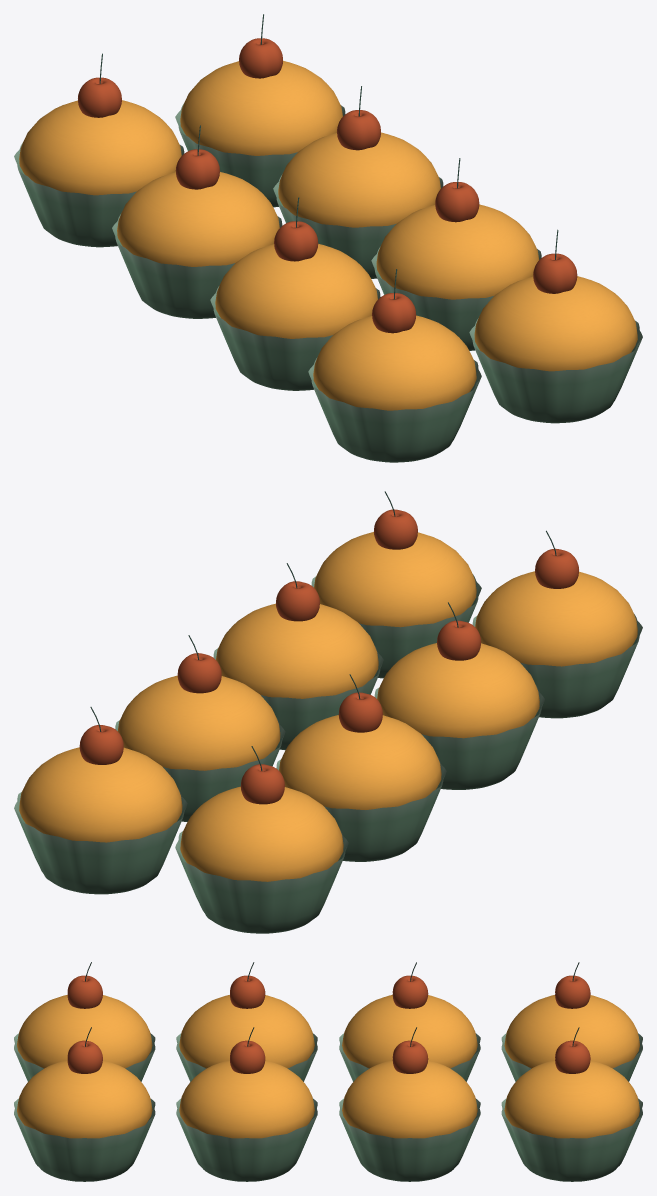
The model's file is Full_Cupcake.fbx.
3 renders of one model, top to bottom at view 1: azimuth 30°, elevation 25°; view 2: azimuth 150°, elevation 25°; view 3: azimuth 270°, elevation 25°, orthographic. The views are drawn at different scales.
Parts seen in each view (by area): view 1: Full_Cupcake; view 2: Full_Cupcake; view 3: Full_Cupcake.
Boxes of the visible parts, <box> form: Full_Cupcake: <box>14,14,642,462</box>; Full_Cupcake: <box>14,491,642,933</box>; Full_Cupcake: <box>14,962,642,1181</box>.
Size of the model in its own units: 23.51 by 12.12 by 50.02.
